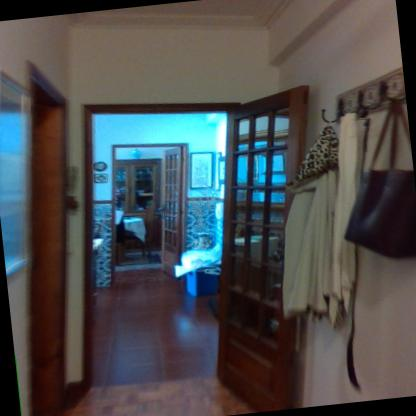open: (49, 65, 359, 415)
